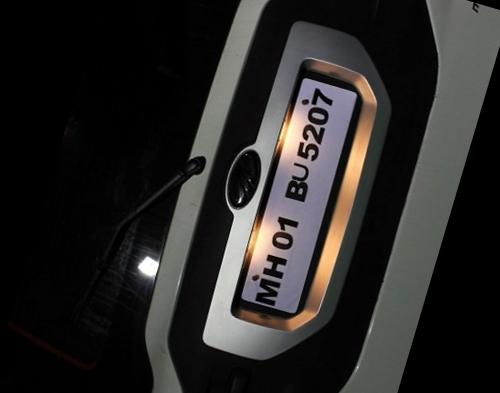plate: (229, 53, 366, 320)
